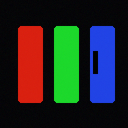4 line_v: (93, 51, 97, 73)
